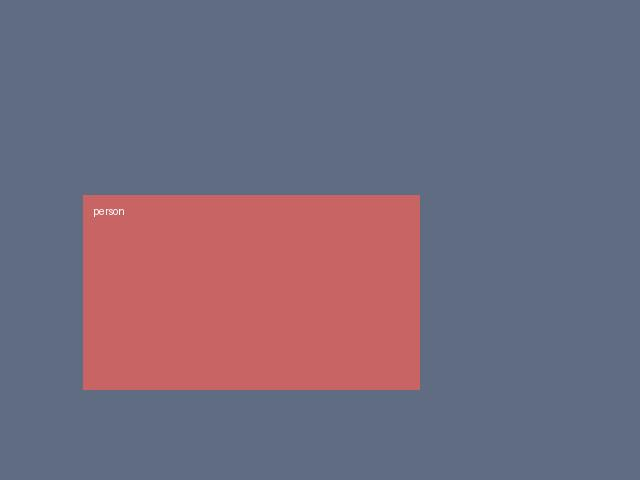person: (83, 195, 419, 389)
